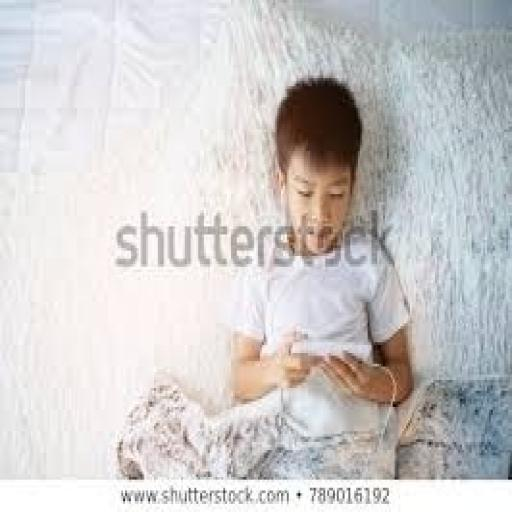texting: (114, 72, 416, 480)
